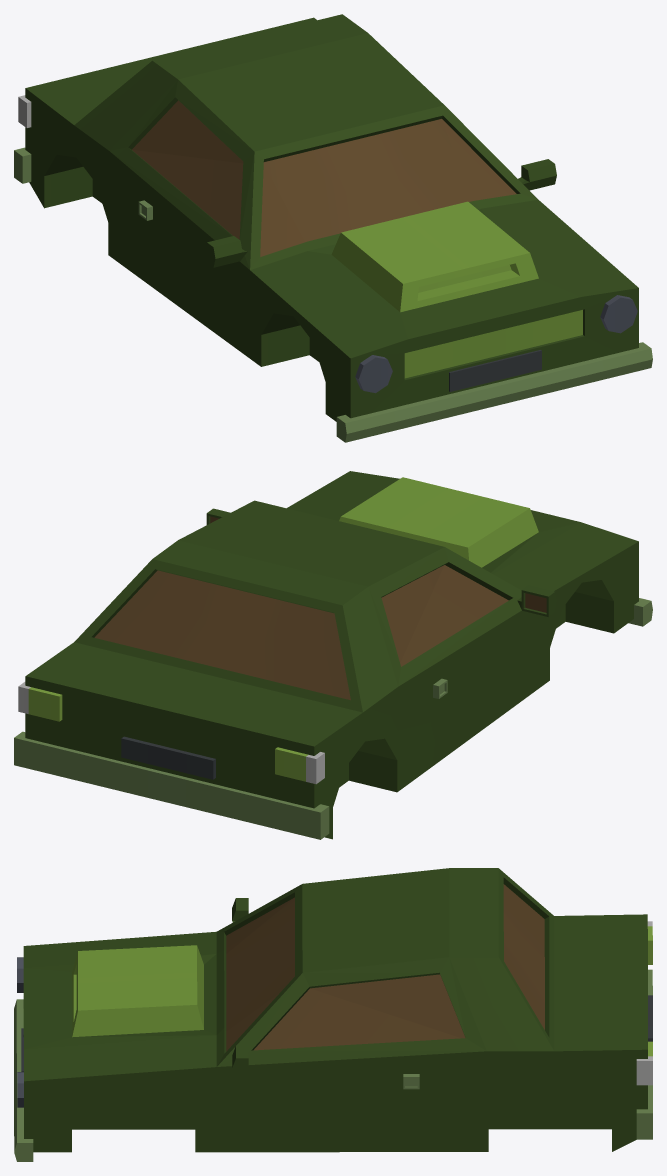
The model's file is Car_22.fbx.
3 views of the same model, one above another, from view 1: azimuth 30°, elevation 25°; view 2: azimuth 150°, elevation 25°; view 3: azimuth 270°, elevation 25° (orthographic). The views are drawn at different scales.
Parts seen in each view (by area): view 1: Car_22; view 2: Car_22; view 3: Car_22.
Part boxes in pixels (x1,y1,x2,y2): Car_22: (14, 14, 652, 442); Car_22: (14, 471, 652, 839); Car_22: (14, 868, 652, 1161).
Size of the model in its own units: 1.99 by 1.03 by 3.36.
